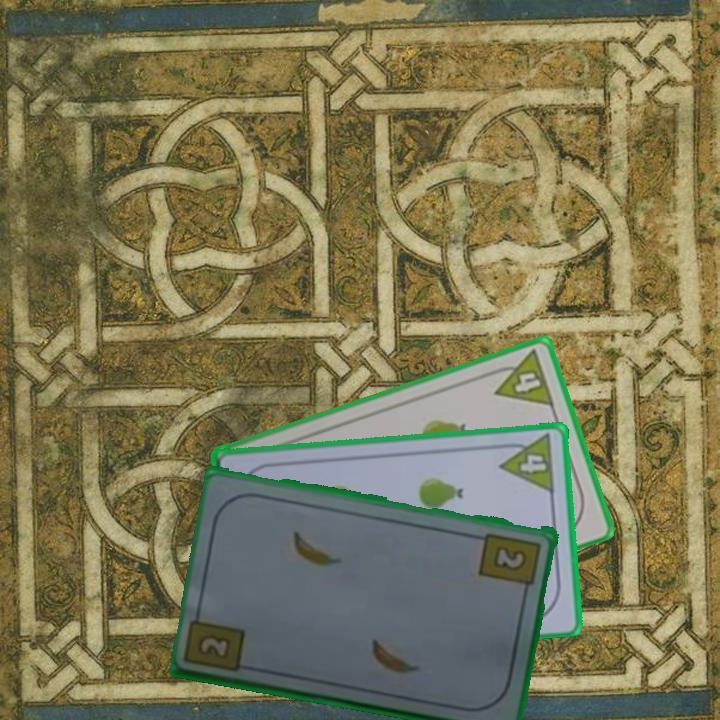2b: (476, 529, 544, 597), (197, 633, 234, 663)
4p: (485, 346, 557, 409), (495, 431, 558, 496)
